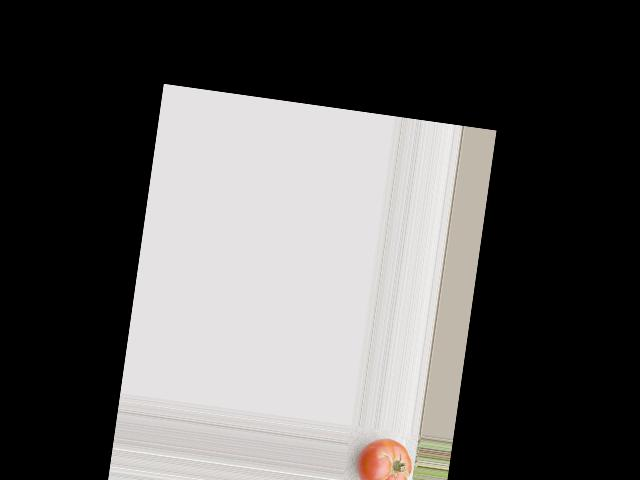tomato: (354, 434, 415, 480)
